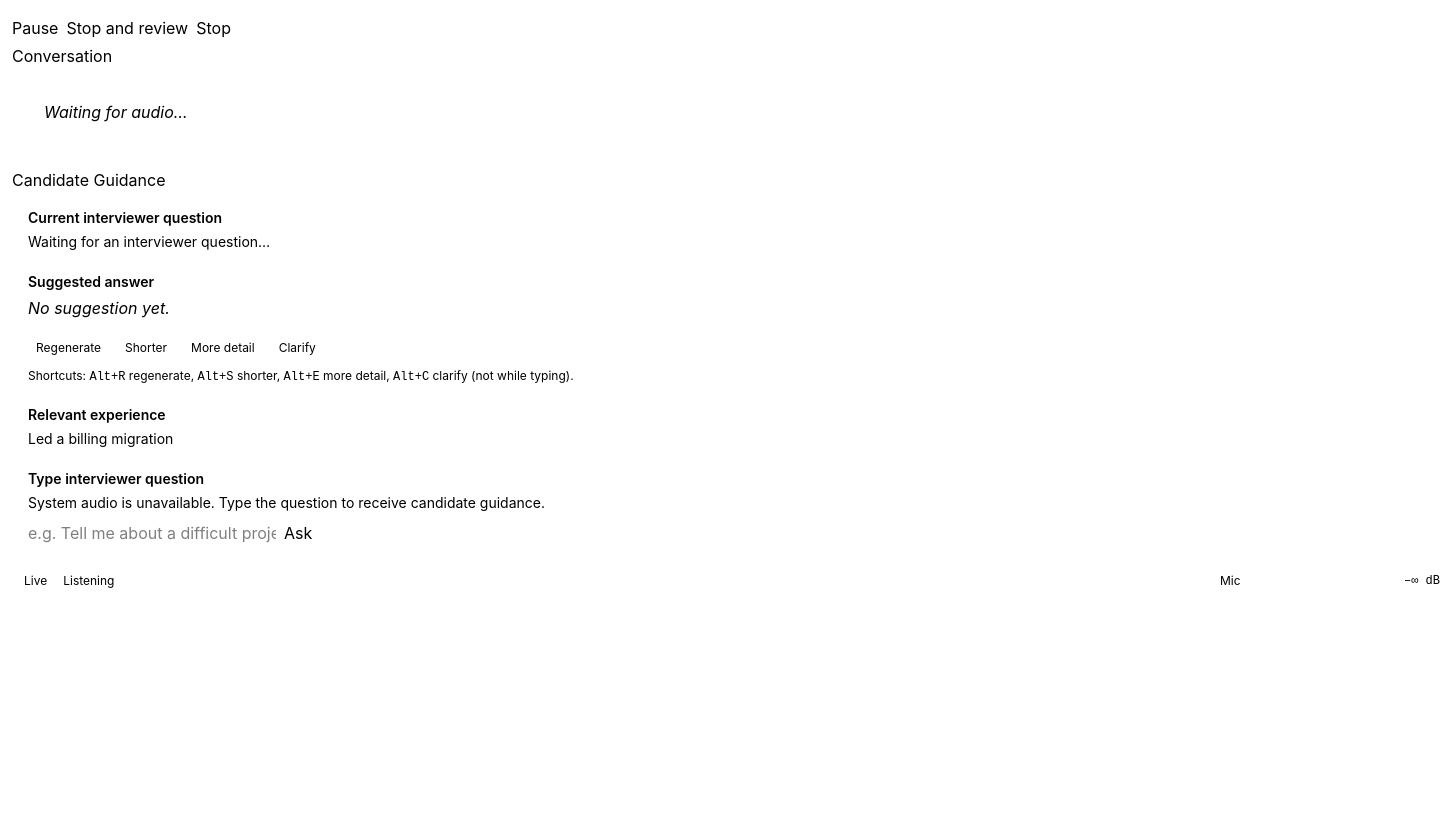
Stop and review › explains a {"status":"skipped","reason":"budget_reached"} debrief
Click the button "Stop and review": x=127, y=28 [66,12,188,44]
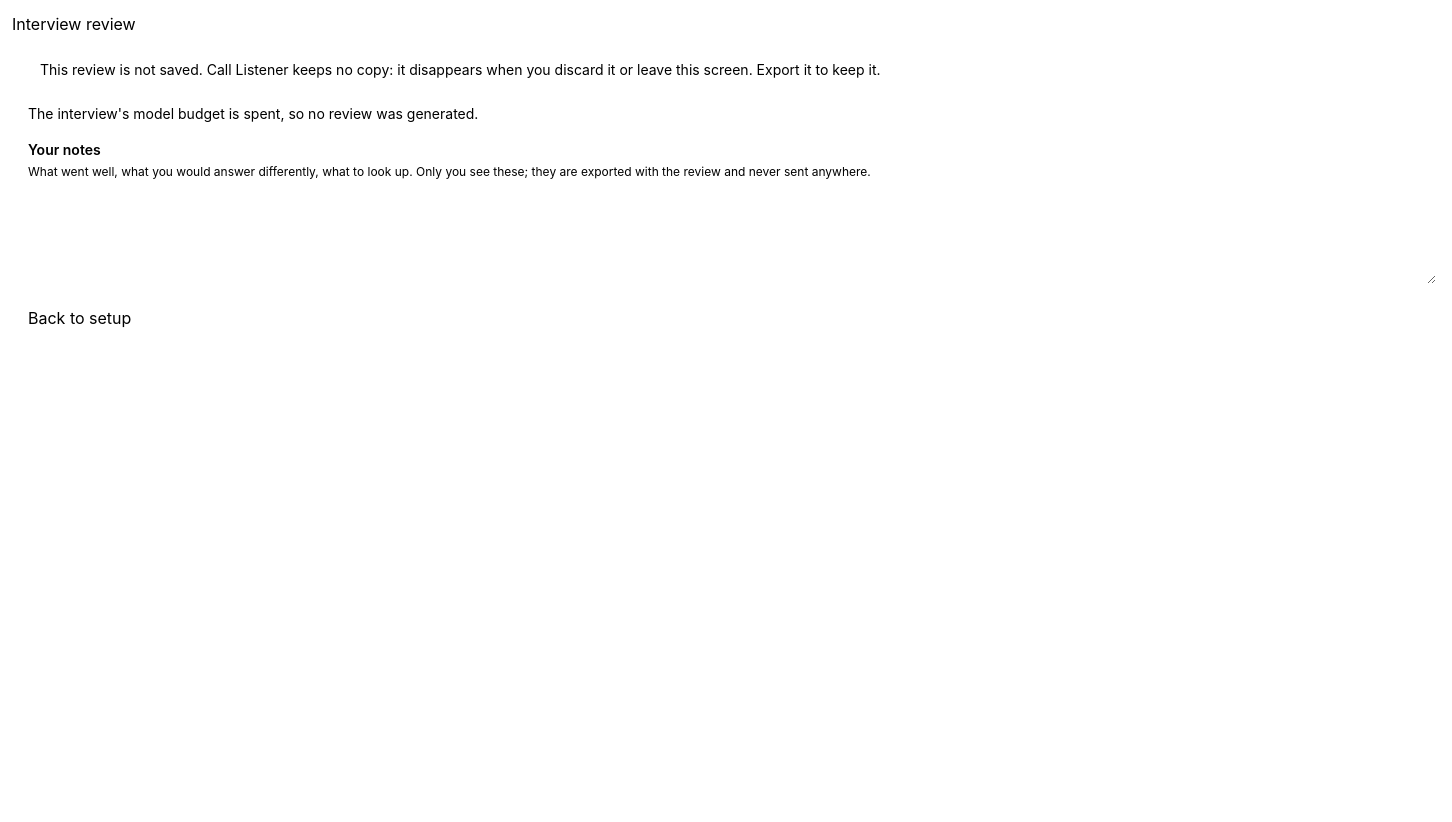
Expected: the message shows "budget is spent", [28,105,478,122]
Click the button "Back to setup": x=80, y=318 [28,306,131,330]
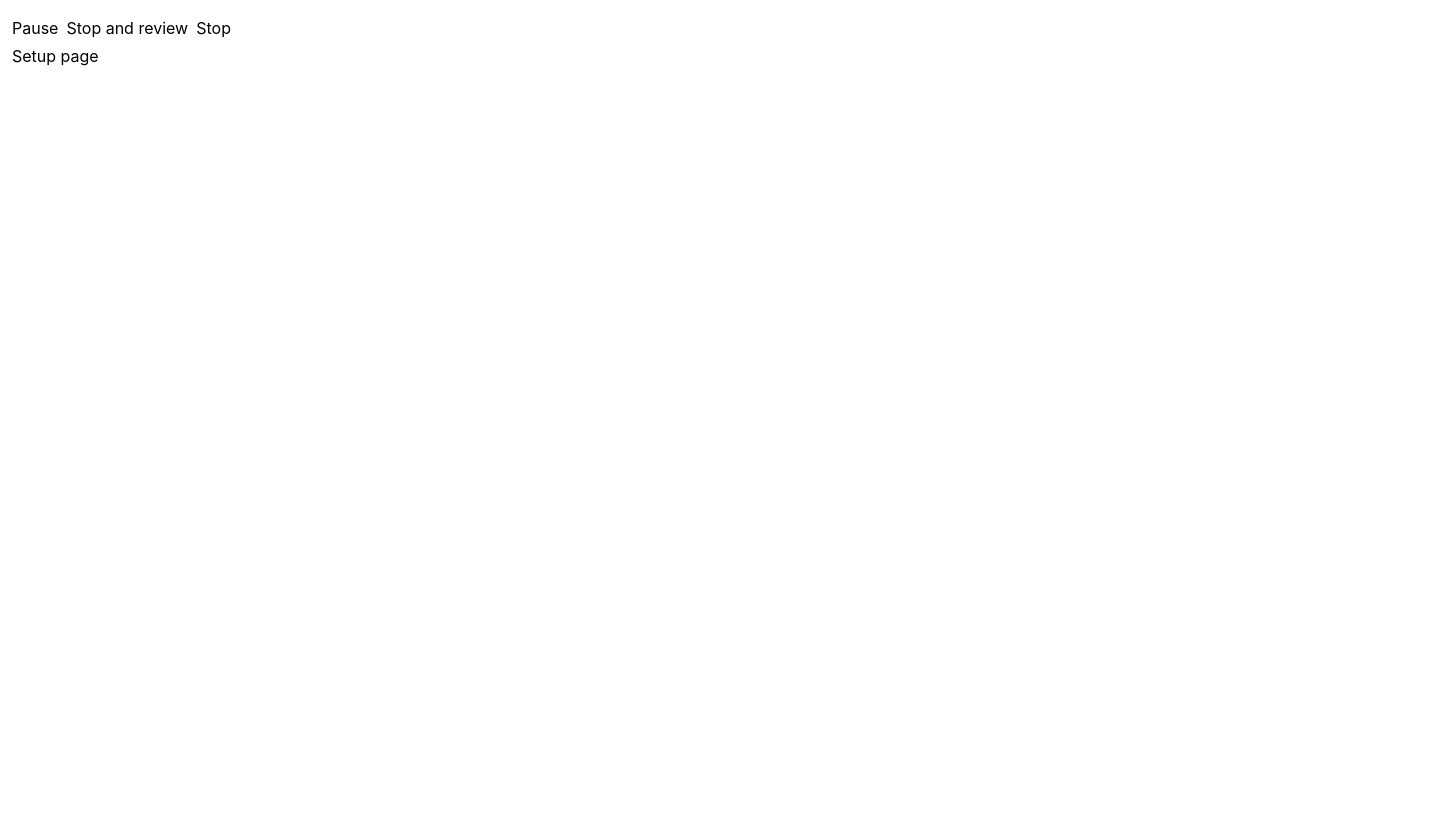
Expected: the text "Setup page" is shown, [12,46,99,66]
